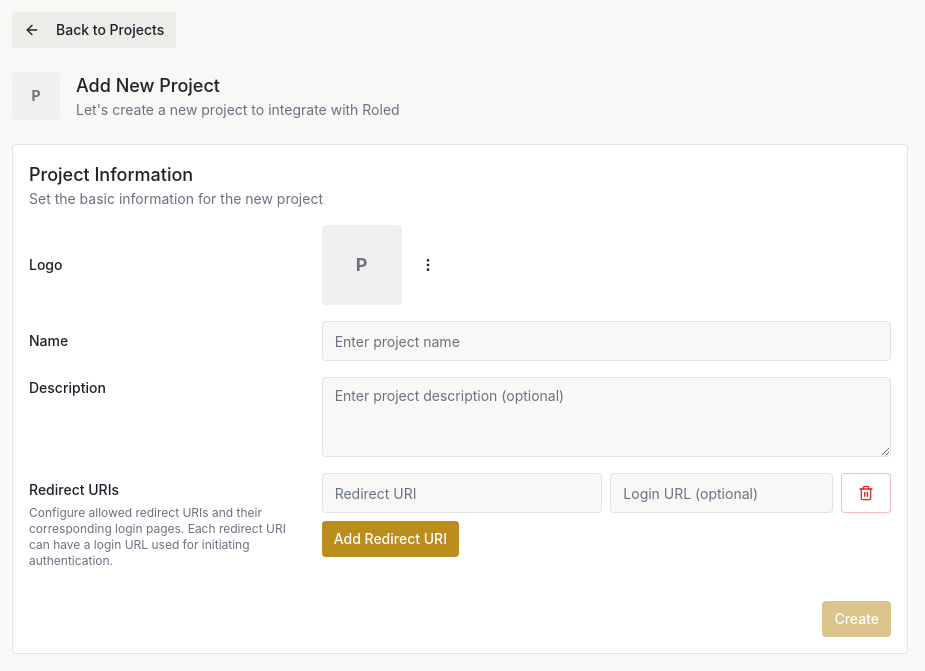
NewProject Page › enables create button when the name is provided even without redirect URIs
Check: the heading "Add New Project" is shown, box [76,75,220,96]
In the field labelled "Name": (606, 341) [322,321,891,361], type "Test Project"
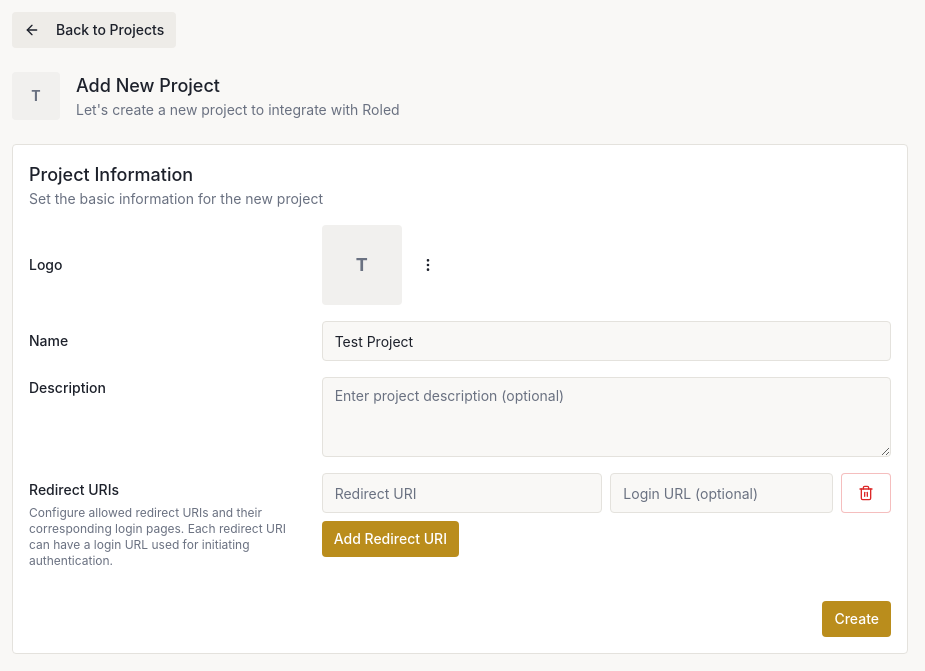
Check: the button "Create" is enabled, box [822,601,891,637]
